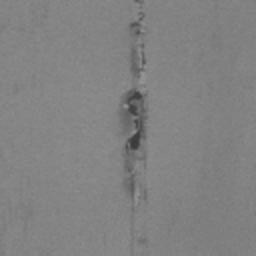Slag inclusion: (118, 88, 150, 204), (124, 0, 146, 81)
